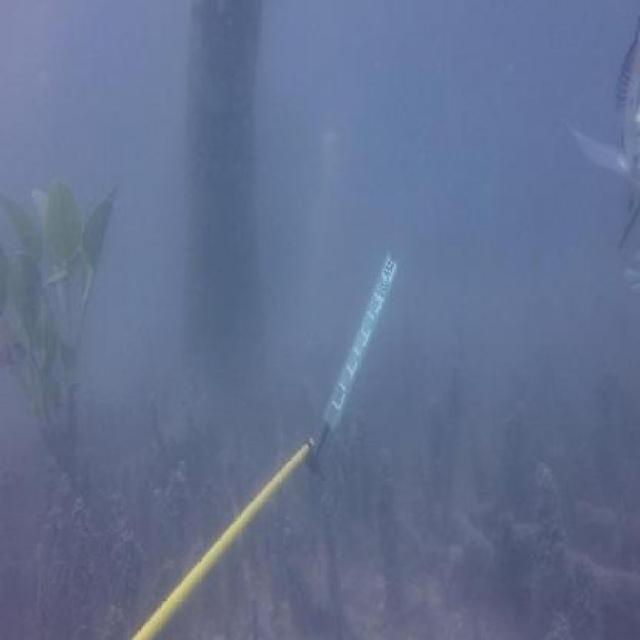acanthopagrus_palmaris: (609, 18, 640, 257)
